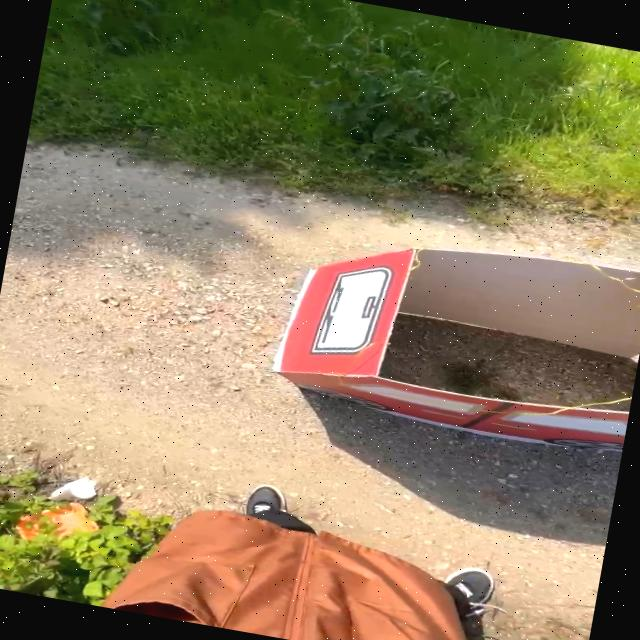red_car: (211, 192, 640, 483)
